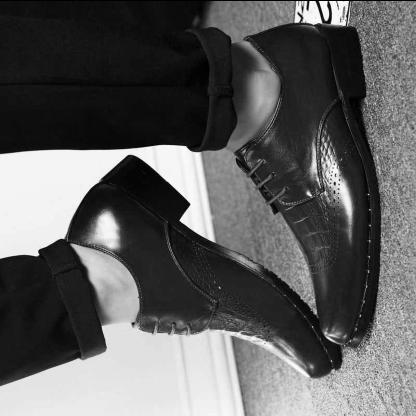ankle: (119, 256, 127, 263), (279, 90, 286, 96)
heel: (306, 29, 312, 37), (102, 185, 106, 193)
left_foot: (244, 22, 381, 349)
pinky: (356, 284, 364, 294), (293, 360, 297, 365)
right_foot: (65, 180, 323, 380)
toe: (318, 356, 326, 366), (328, 323, 334, 329)
